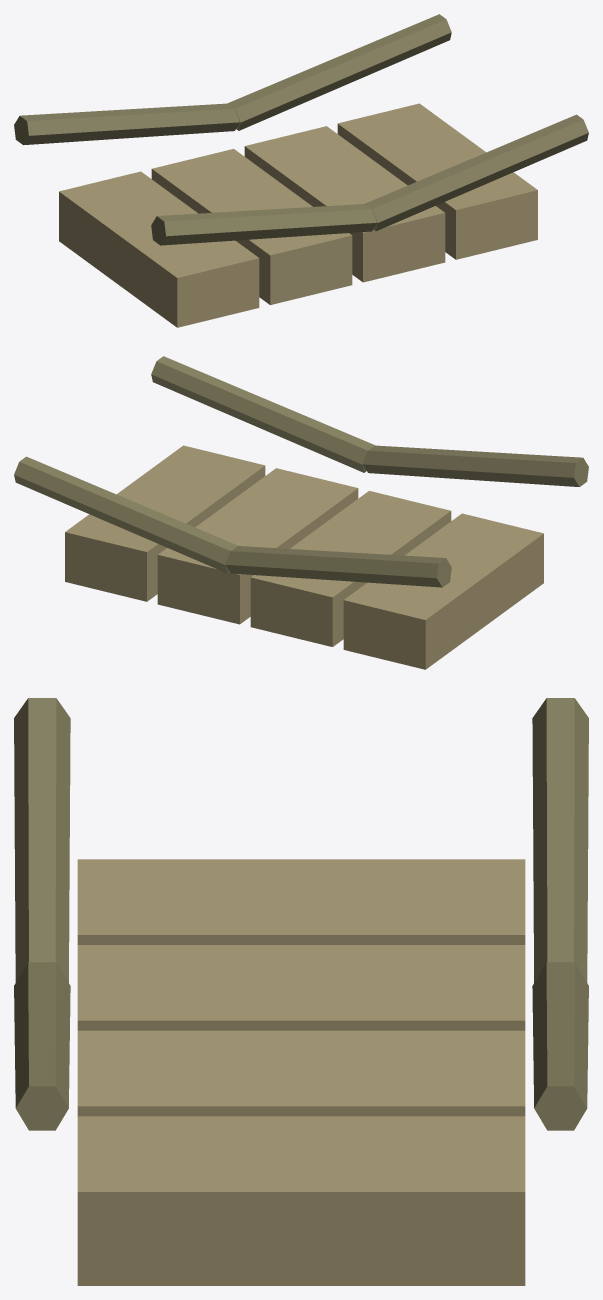
Rendered from map-exclusive-v3__ridge_11.glb.
The picture shows the model from 3 angles, top to bottom: view 1: azimuth 30°, elevation 25°; view 2: azimuth 150°, elevation 25°; view 3: azimuth 270°, elevation 25°; orthographic projection. The views are drawn at different scales.
Visible parts, largest first — view 1: ridge_11; view 2: ridge_11; view 3: ridge_11.
Boxes of the visible parts, left/top/right/bottom form: ridge_11: left=14, top=14, right=588, bottom=327; ridge_11: left=14, top=356, right=588, bottom=669; ridge_11: left=14, top=698, right=588, bottom=1285.
Size of the model in its own units: 1.98 by 0.5412 by 1.22.
